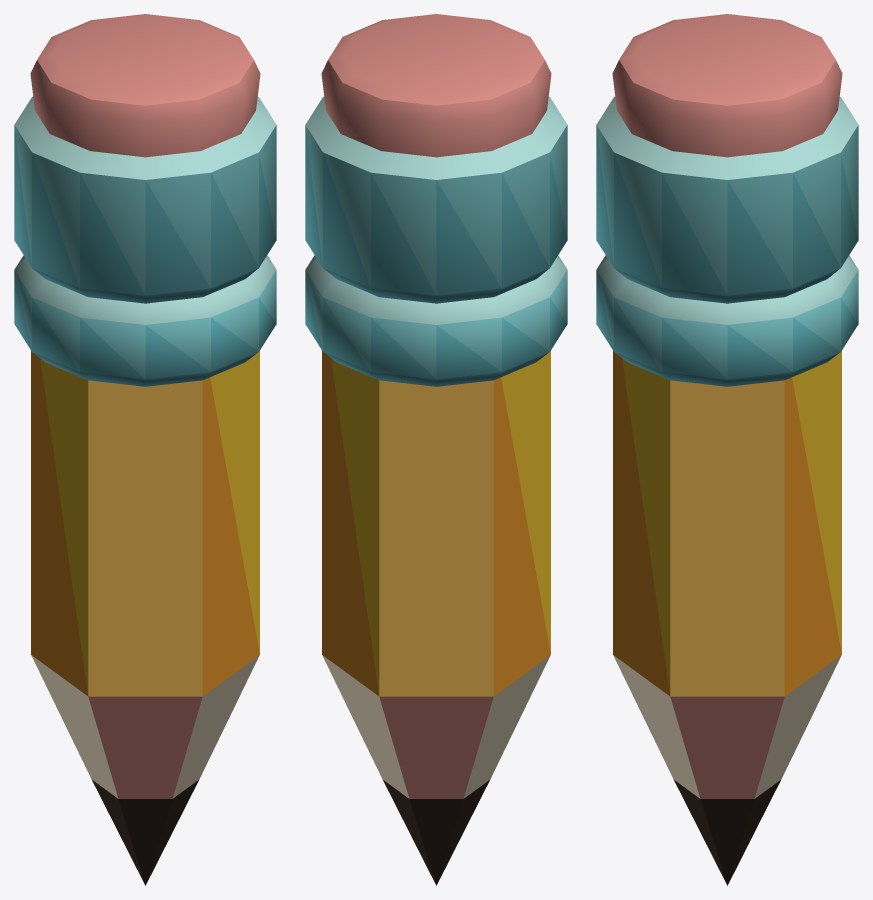
File: itch_kaykit_rpg_tools_pencil_b_short.glb
3 renders of one model, left to right at view 1: azimuth 30°, elevation 25°; view 2: azimuth 150°, elevation 25°; view 3: azimuth 270°, elevation 25°, orthographic.
Parts seen in each view (by area): view 1: pencil_B_short; view 2: pencil_B_short; view 3: pencil_B_short.
Boxes of the visible parts, x1,y1,x2,y2 form: pencil_B_short: (14, 14, 276, 885); pencil_B_short: (305, 14, 567, 885); pencil_B_short: (596, 14, 858, 885).
Bounding box in the file's own units: 0.257 × 0.9 × 0.257.
